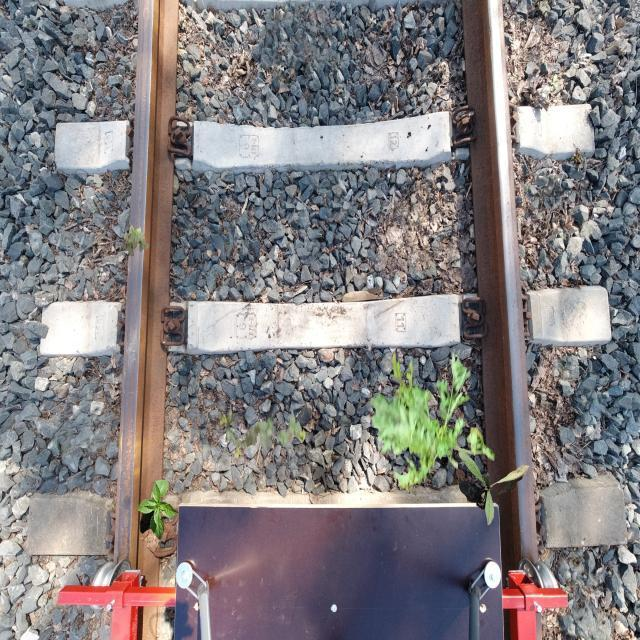Plant: (370, 349, 495, 496), (458, 451, 530, 526), (220, 408, 306, 460), (138, 480, 180, 540), (123, 225, 149, 257)
